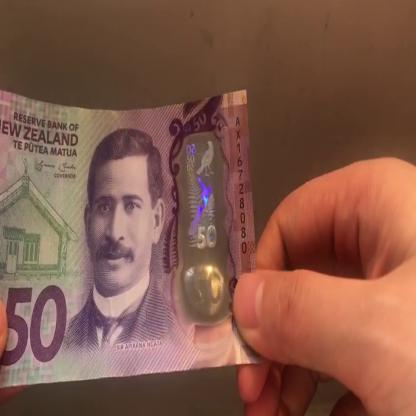50F: (178, 136, 226, 311)
